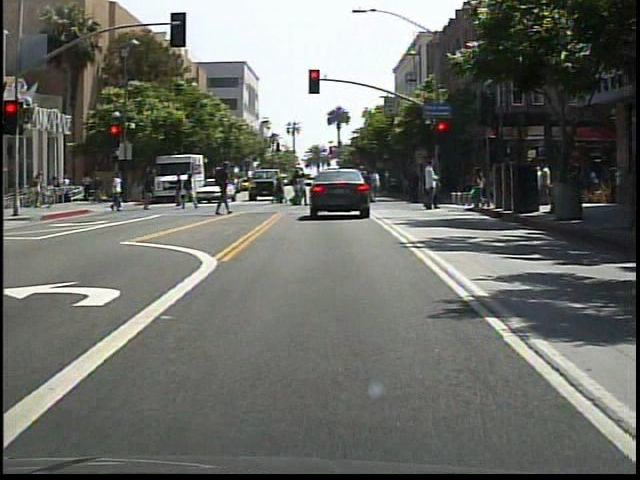person: (417, 158, 447, 213), (210, 161, 237, 218), (333, 167, 355, 216), (109, 171, 128, 217), (180, 171, 201, 212), (172, 171, 186, 212)
